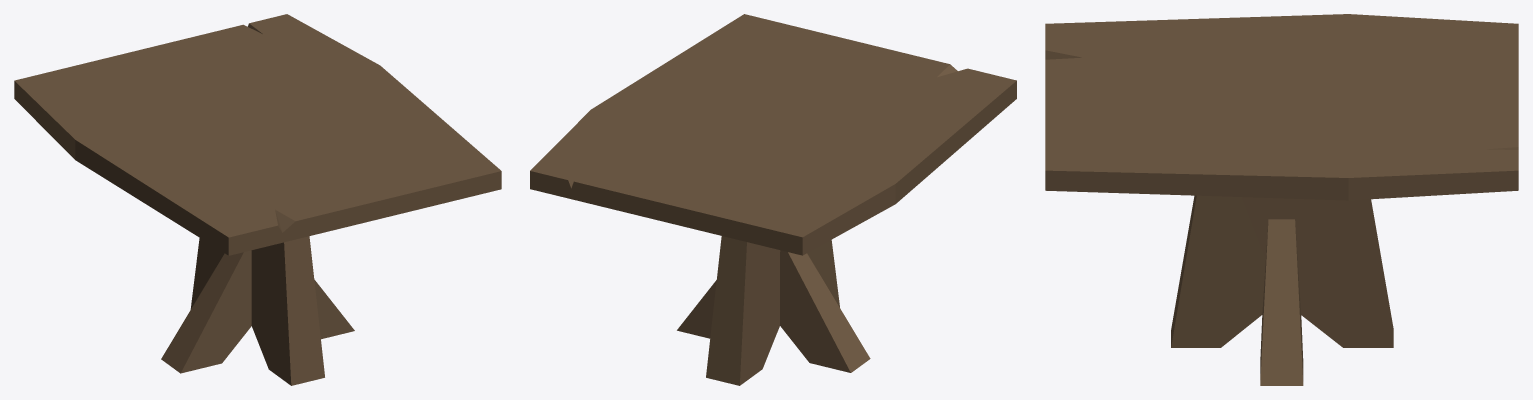
File: counter.glb
3 views of the same model, side by side, from view 1: azimuth 30°, elevation 25°; view 2: azimuth 150°, elevation 25°; view 3: azimuth 270°, elevation 25° (orthographic). The views are drawn at different scales.
Parts seen in each view (by area): view 1: table; view 2: table; view 3: table.
Part boxes in pixels (<box>): table: <box>14,14,501,385</box>; table: <box>530,14,1016,385</box>; table: <box>1045,14,1518,385</box>.
Bounding box in the file's own units: 1.05 × 0.727 × 1.28.
Materials: 1 (1 with a texture image).
